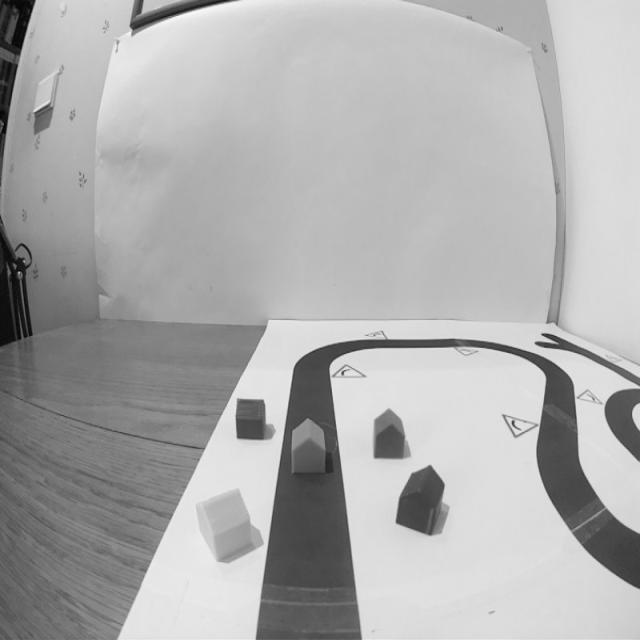home: (392, 460, 450, 549), (193, 484, 254, 566), (289, 413, 329, 480), (370, 409, 408, 464), (232, 396, 268, 442)
lineStraight: (250, 484, 368, 640)
